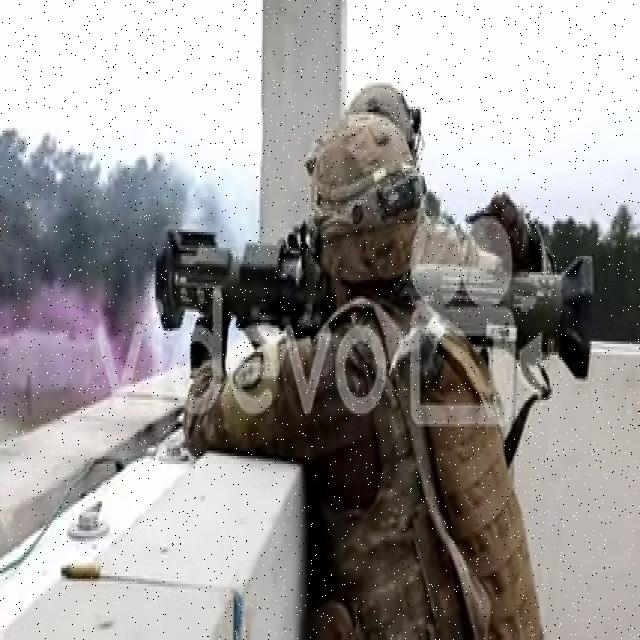bazooka: (149, 215, 599, 397)
